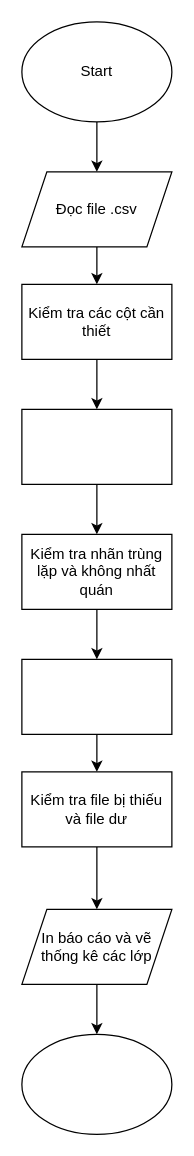
The diagram is 194 pixels wide and 1156 high, and some of its shapes have lost their labels. The shapes that lost their labels are listed below. From the top down, each one's box as (x1, y1, x2, y2) in pixels, then its label:
(21, 408, 172, 484): Thống kê lớp và fold
(21, 658, 172, 734): Tạo đường dẫn cho từng hànd csv
(21, 1033, 172, 1134): End
